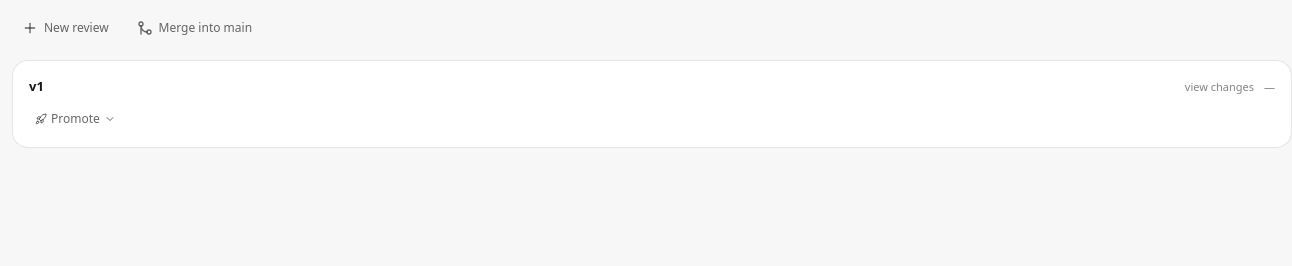
ActivityFeed promote menu › lists the environments of the workflow's own workspace, not the active one
This screenshot has width=1292, height=266.
Click the button "Promote" at (75, 118), box [29,106,122,130]
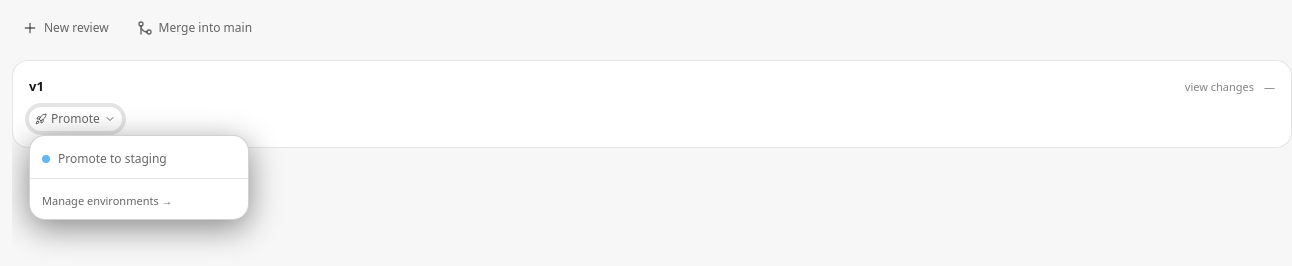
Check: the button "Promote to staging" is enabled, box [30,144,248,174]
